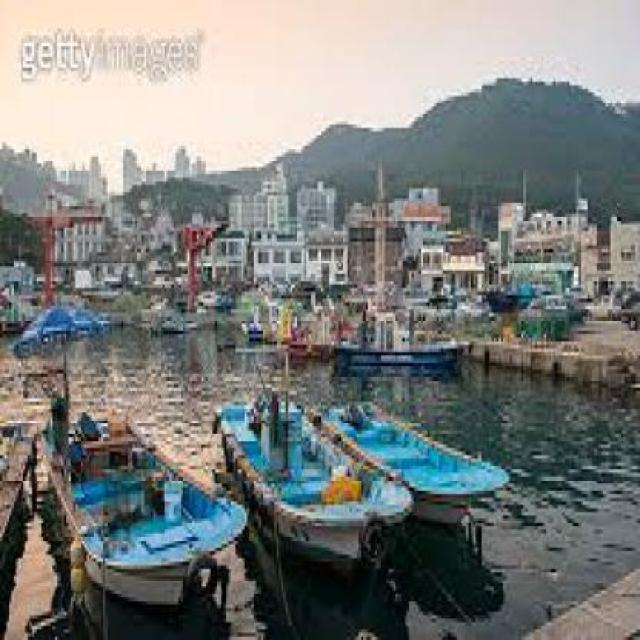fish-b: (27, 346, 258, 609), (210, 361, 417, 567), (330, 371, 523, 556)
